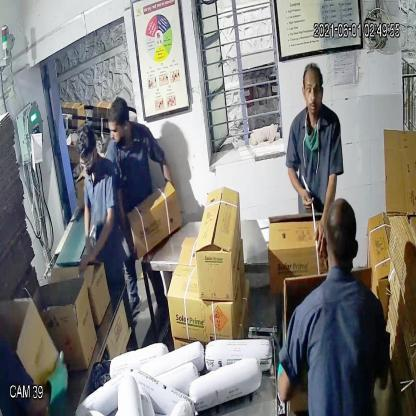goggles: (78, 150, 98, 173)
no_goggles: (301, 79, 325, 101)
